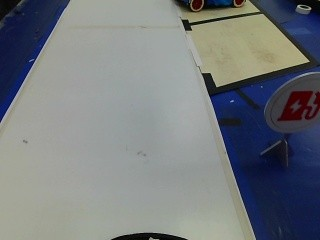battery: (262, 68, 318, 136)
car: (172, 0, 258, 13)
